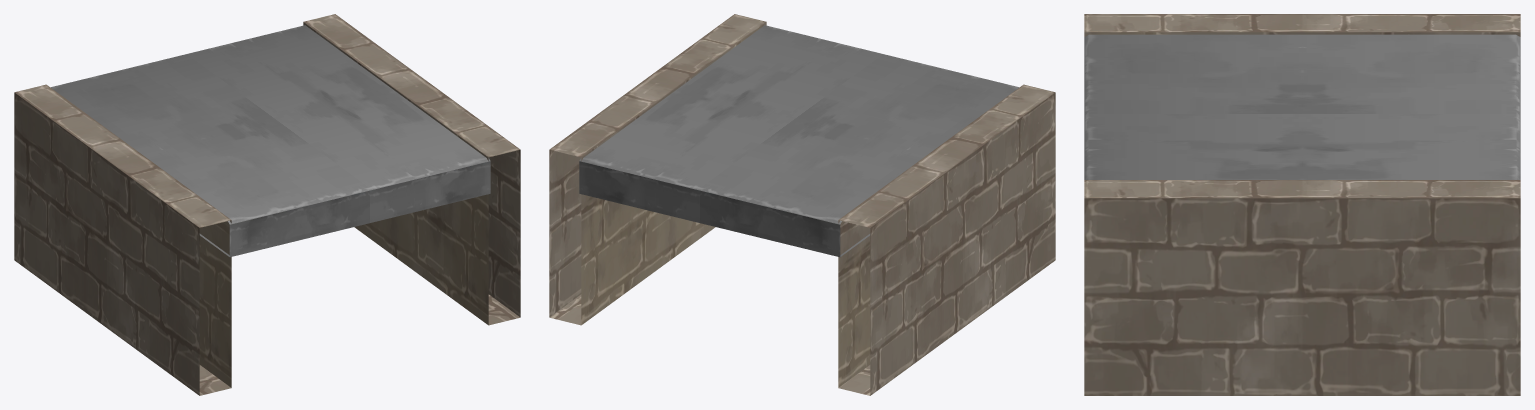
Rendered from Stairs_Exterior_Platform.gltf.
3 views of the same model, side by side, from view 1: azimuth 30°, elevation 25°; view 2: azimuth 150°, elevation 25°; view 3: azimuth 270°, elevation 25° (orthographic). The views are drawn at different scales.
Parts seen in each view (by area): view 1: Stairs_Exterior_Platform; view 2: Stairs_Exterior_Platform; view 3: Stairs_Exterior_Platform.
Boxes of the visible parts, left/top/right/bottom form: Stairs_Exterior_Platform: left=14, top=14, right=520, bottom=395; Stairs_Exterior_Platform: left=549, top=14, right=1055, bottom=395; Stairs_Exterior_Platform: left=1084, top=14, right=1520, bottom=395.
Bounding box in the file's own units: 2 × 1 × 2.
2 materials, 2 textured.
